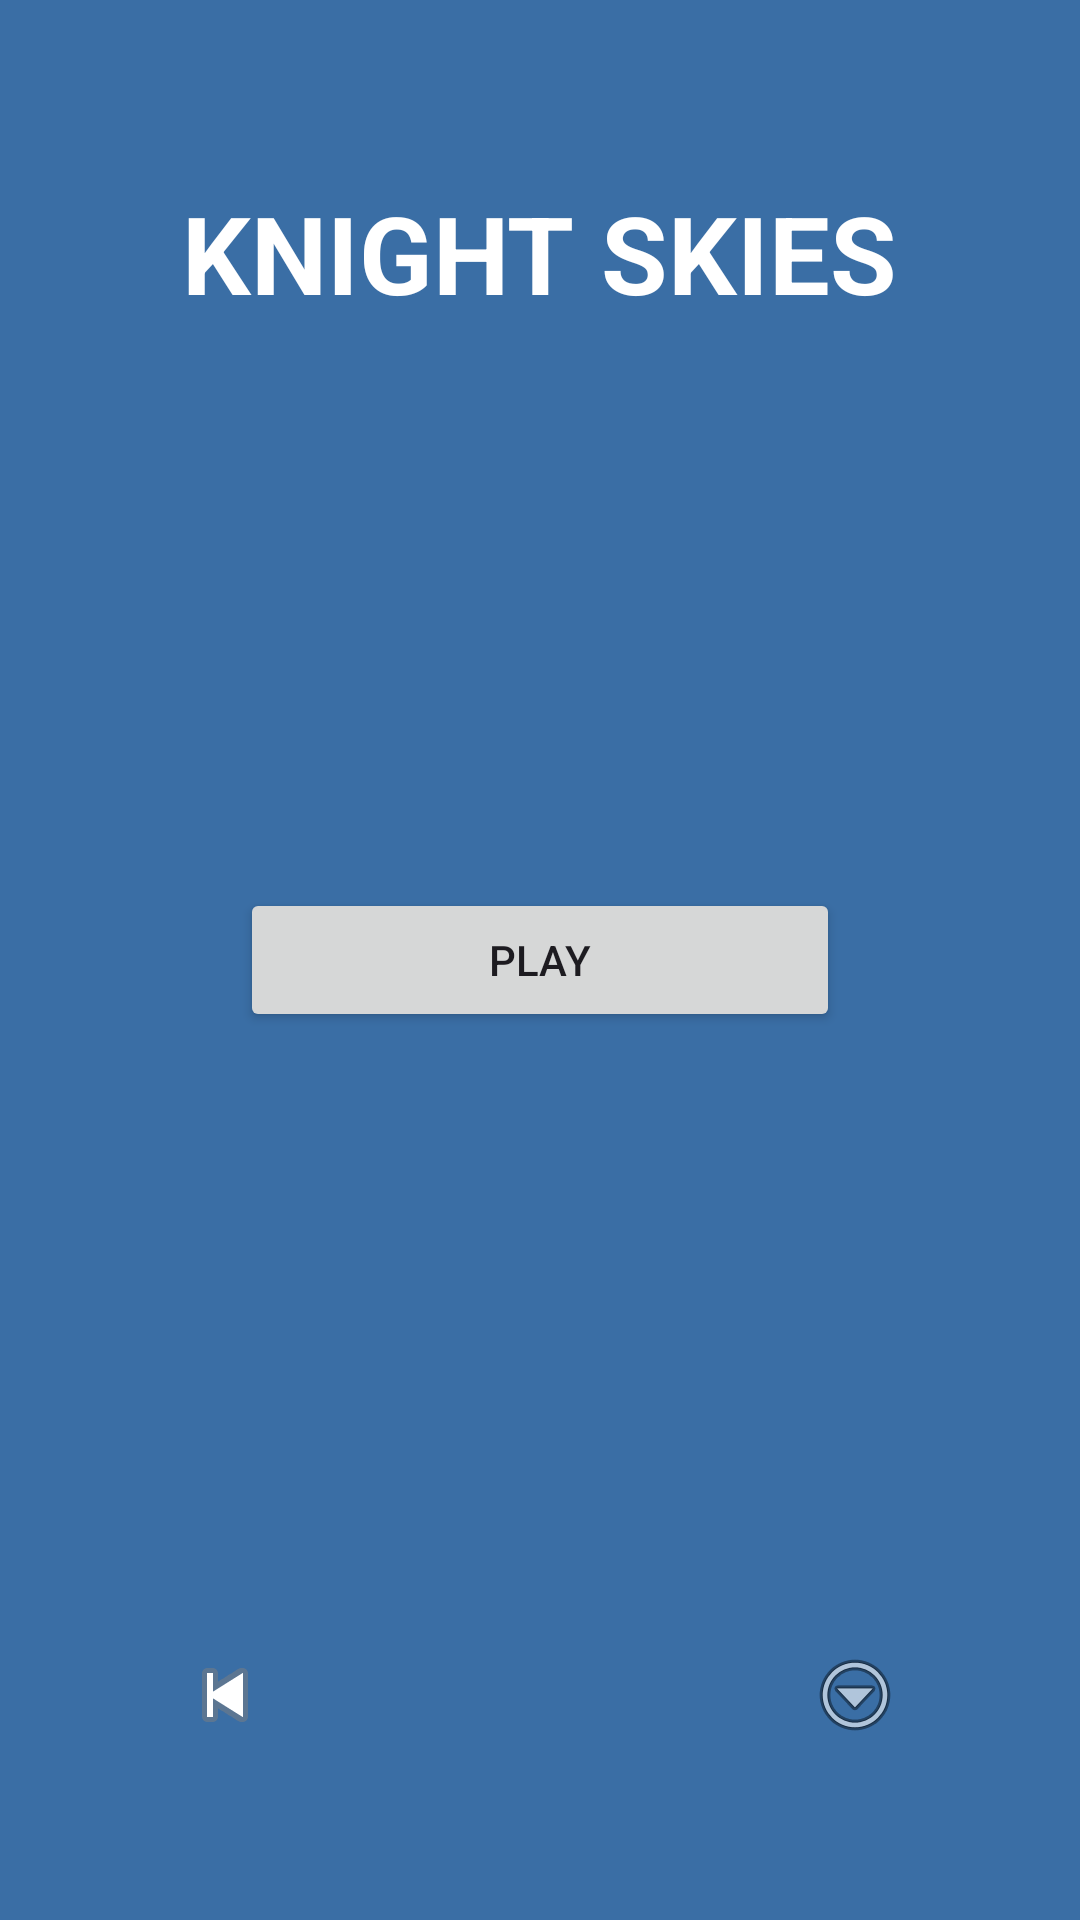

Named icons in this screenshot (1080*1920) and their bounding boxes, (x1, y1, x2, y2):
more: (820, 1660, 890, 1730)
previous: (202, 1668, 248, 1722)
